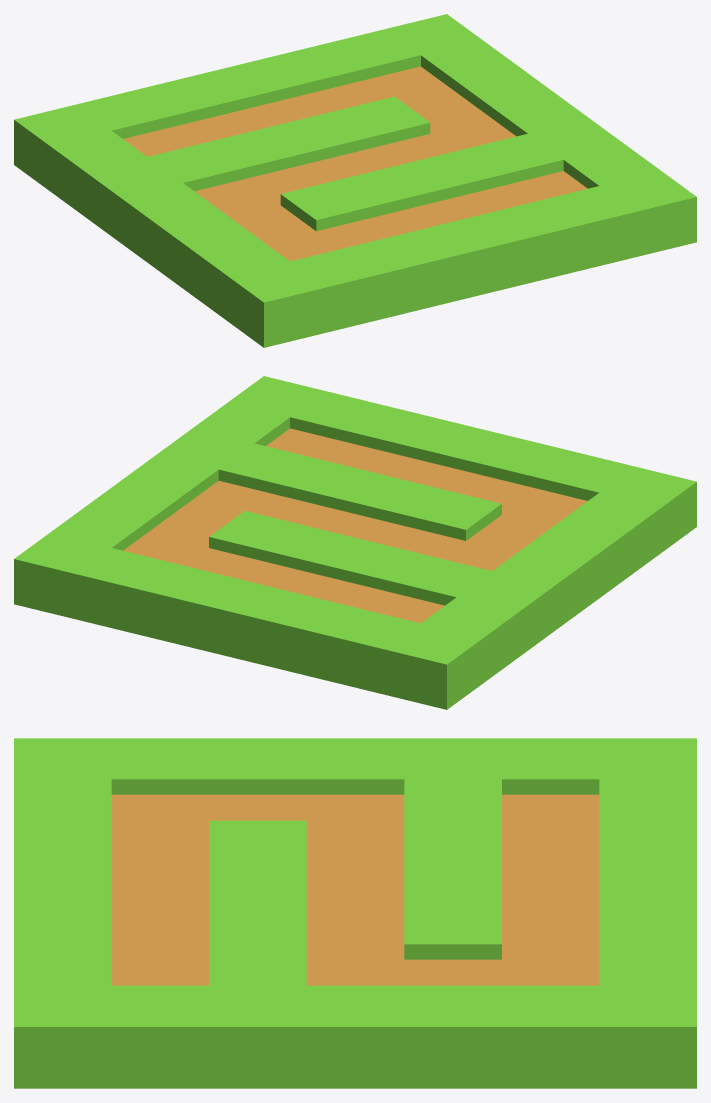
Rendered from map1.gltf.
3 views of the same model, one above another, from view 1: azimuth 30°, elevation 25°; view 2: azimuth 150°, elevation 25°; view 3: azimuth 270°, elevation 25° (orthographic). The views are drawn at different scales.
Visible parts, largest first — view 1: Cube; view 2: Cube; view 3: Cube.
Part boxes in pixels (x1=…): Cube: x1=14, y1=14, x2=696, y2=347; Cube: x1=14, y1=376, x2=696, y2=709; Cube: x1=14, y1=738, x2=696, y2=1088.
Size of the model in its own units: 100 by 10 by 100.
